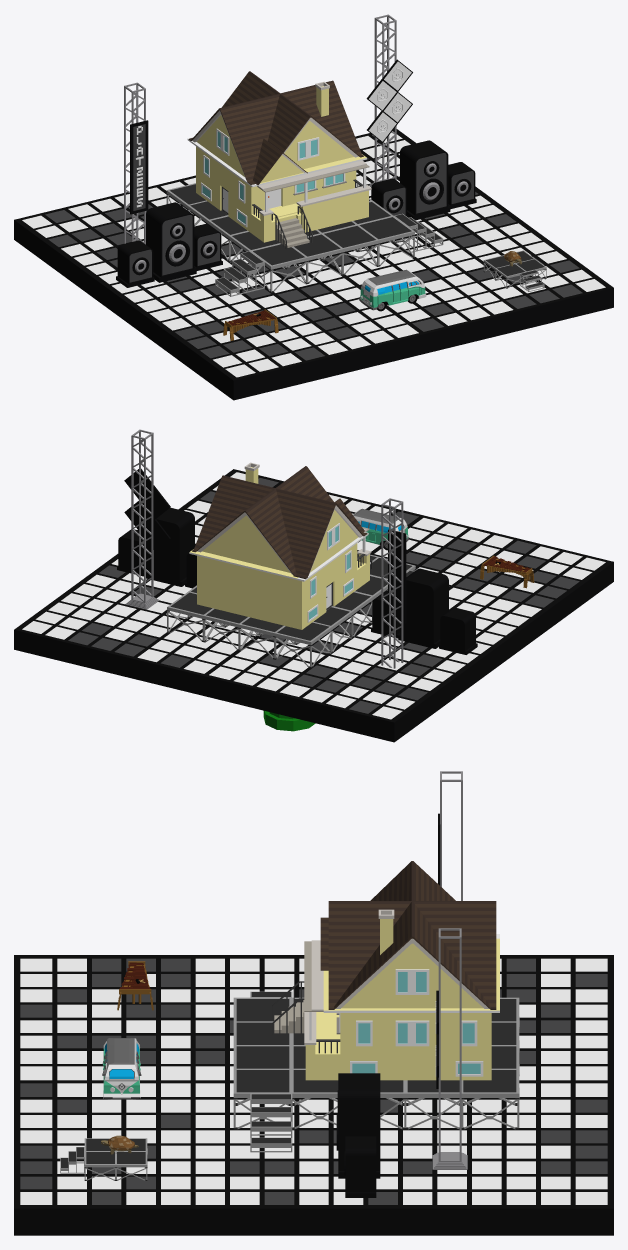
The picture shows the model from 3 angles, top to bottom: view 1: azimuth 30°, elevation 25°; view 2: azimuth 150°, elevation 25°; view 3: azimuth 270°, elevation 25°; orthographic projection. The views are drawn at different scales.
Visible parts, largest first — view 1: Cube.008, Cube.1555, VEHICLES_VAN, OBJRANDOM_MARIMBA; view 2: Cube.008, Cube.1555, VEHICLES_VAN, OBJRANDOM_MARIMBA, UNDERGROUND_PIPES; view 3: Cube.008, Cube.1555, VEHICLES_VAN, OBJRANDOM_MARIMBA.
Boxes of the visible parts, x1,y1,x2,y2 form: Cube.008: (14, 14, 613, 400); Cube.1555: (187, 71, 371, 249); VEHICLES_VAN: (359, 269, 426, 311); OBJRANDOM_MARIMBA: (223, 309, 278, 340); Cube.008: (14, 429, 613, 742); Cube.1555: (189, 462, 372, 629); VEHICLES_VAN: (353, 508, 409, 550); OBJRANDOM_MARIMBA: (480, 555, 534, 588); UNDERGROUND_PIPES: (263, 711, 315, 731); Cube.008: (14, 771, 613, 1235); Cube.1555: (272, 861, 499, 1080); VEHICLES_VAN: (102, 1038, 141, 1099); OBJRANDOM_MARIMBA: (117, 961, 153, 1010).
Bounding box in the file's own units: 4000 × 2555 × 4000.
44 materials, 1 textured.
